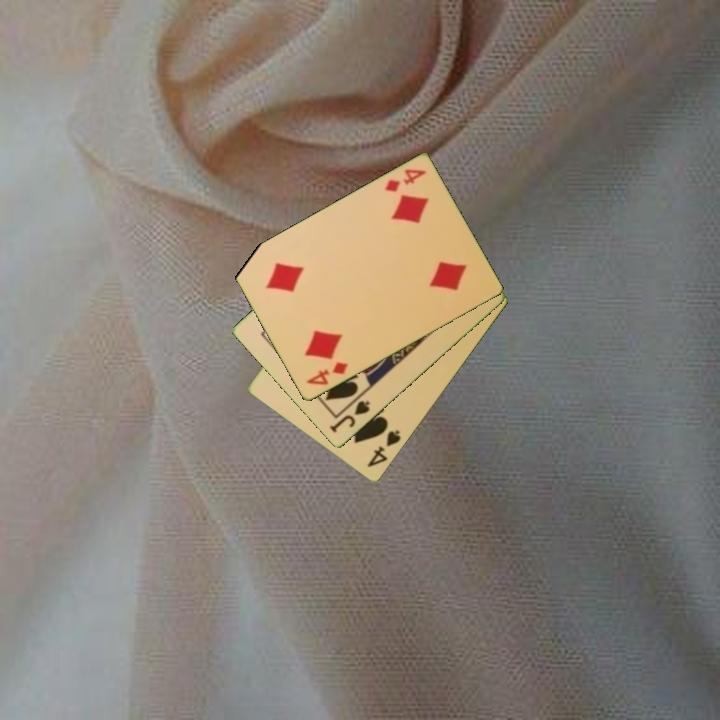4d: (303, 359, 351, 389), (381, 166, 429, 196)
4s: (363, 427, 404, 471)
Js: (326, 397, 373, 436)
